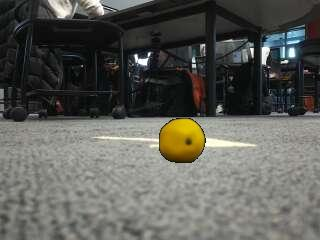lemon: (160, 118, 204, 163)
